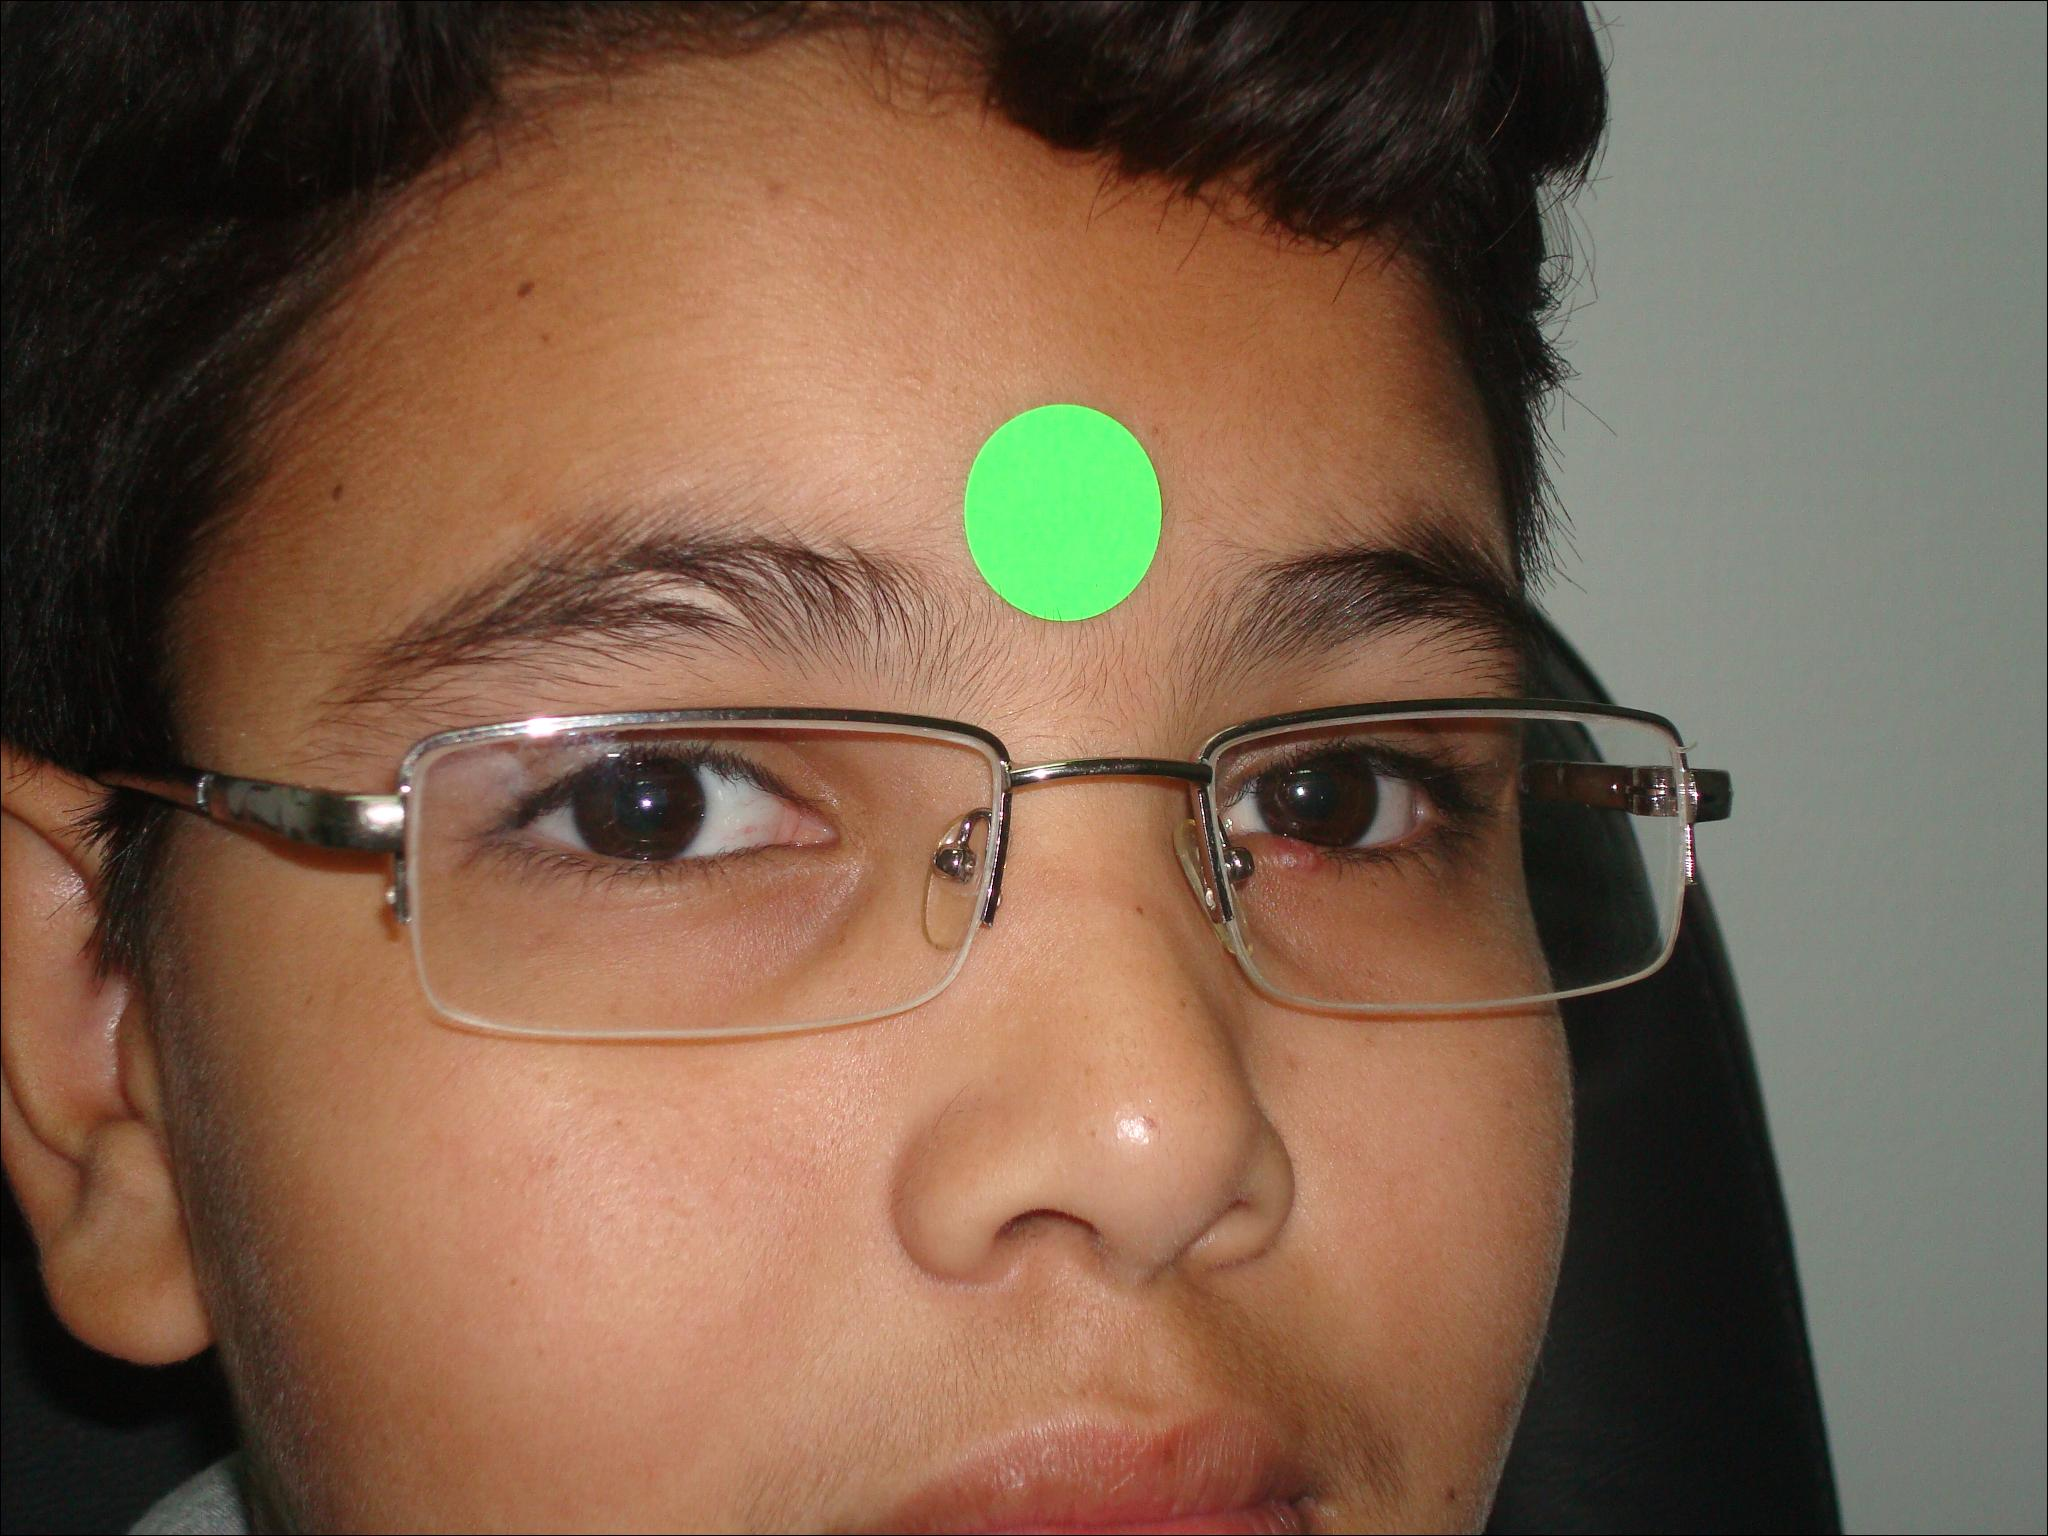flash: (634, 791, 660, 816), (1292, 781, 1309, 802)
limbo: (577, 752, 710, 860), (1250, 741, 1376, 847)
